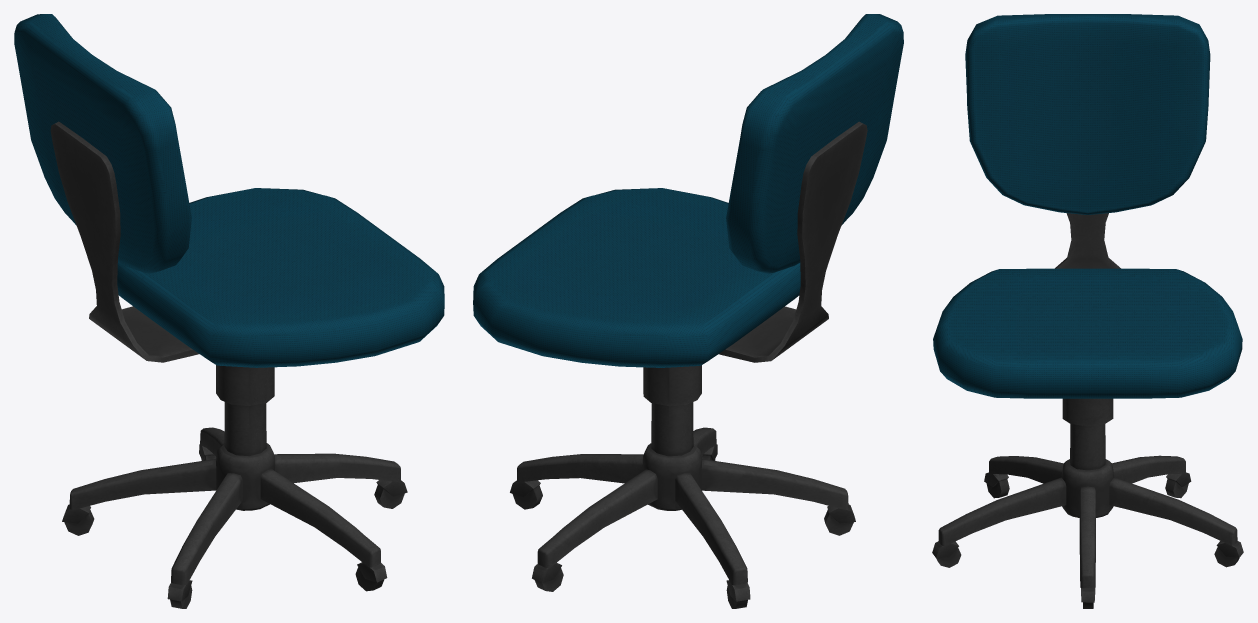
File: Chair_Low_Poly.glb
The picture shows the model from 3 angles, left to right: view 1: azimuth 30°, elevation 25°; view 2: azimuth 150°, elevation 25°; view 3: azimuth 270°, elevation 25°; orthographic projection. The views are drawn at different scales.
Visible parts, largest first — view 1: Mesh_lambert3_0, Mesh_lambert2_0; view 2: Mesh_lambert3_0, Mesh_lambert2_0; view 3: Mesh_lambert3_0, Mesh_lambert2_0.
Part boxes in pixels (box(x1,y1,x2,y2)): Mesh_lambert3_0: box(14, 14, 444, 367); Mesh_lambert2_0: box(50, 121, 407, 608); Mesh_lambert3_0: box(473, 14, 903, 367); Mesh_lambert2_0: box(510, 121, 867, 608); Mesh_lambert3_0: box(933, 14, 1242, 398); Mesh_lambert2_0: box(932, 213, 1243, 608).
Size of the model in its own units: 23.68 by 35.96 by 21.91.
2 materials, 2 textured.
